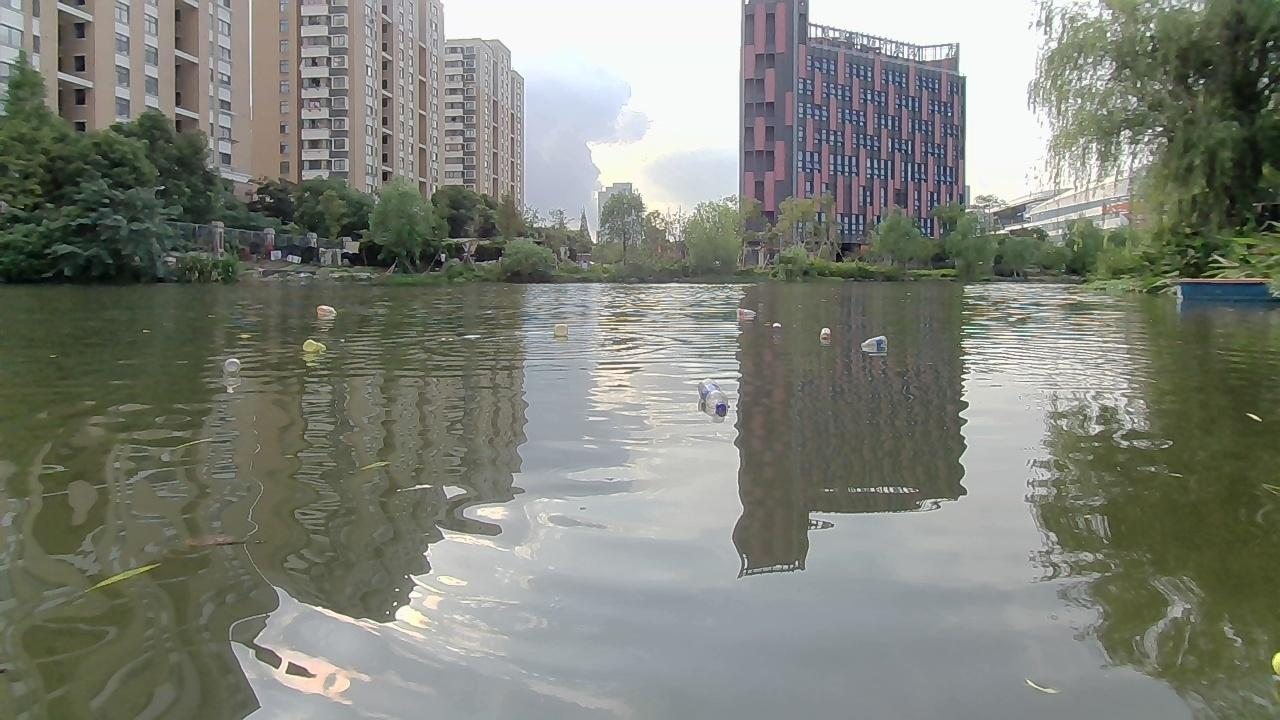bottle: (693, 372, 731, 421), (860, 332, 889, 352), (302, 336, 327, 358), (219, 356, 241, 380), (552, 320, 574, 343), (316, 305, 335, 321), (734, 306, 754, 320), (820, 327, 834, 345)
